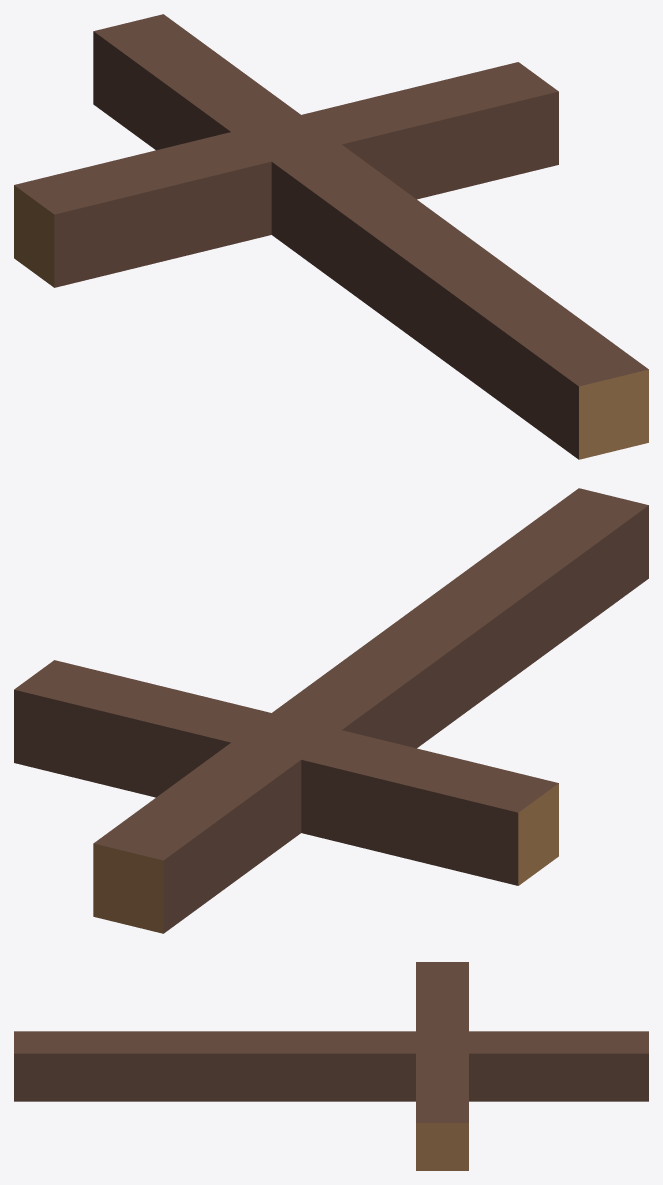
File: Cross.fbx
3 renders of one model, top to bottom at view 1: azimuth 30°, elevation 25°; view 2: azimuth 150°, elevation 25°; view 3: azimuth 270°, elevation 25°, orthographic. The views are drawn at different scales.
Visible parts, largest first — view 1: Cross_Base, BrokenCross_Part04, BrokenCross_Part01, BrokenCross_Part03, BrokenCross_Part02; view 2: Cross_Base, BrokenCross_Part04, BrokenCross_Part01, BrokenCross_Part03, BrokenCross_Part02; view 3: Cross_Base, BrokenCross_Part04, BrokenCross_Part02, BrokenCross_Part03, BrokenCross_Part01.
Part boxes in pixels (x1=…): Cross_Base: x1=30, y1=14, x2=648, y2=459; BrokenCross_Part04: x1=94, y1=14, x2=556, y2=316; BrokenCross_Part01: x1=14, y1=148, x2=188, y2=287; BrokenCross_Part03: x1=423, y1=273, x2=612, y2=459; BrokenCross_Part02: x1=462, y1=262, x2=648, y2=449; Cross_Base: x1=14, y1=488, x2=648, y2=933; BrokenCross_Part04: x1=15, y1=603, x2=491, y2=859; BrokenCross_Part01: x1=367, y1=750, x2=558, y2=885; BrokenCross_Part03: x1=464, y1=497, x2=648, y2=688; BrokenCross_Part02: x1=427, y1=488, x2=612, y2=608; Cross_Base: x1=14, y1=962, x2=648, y2=1170; BrokenCross_Part04: x1=215, y1=1009, x2=648, y2=1122; BrokenCross_Part02: x1=14, y1=1043, x2=213, y2=1101; BrokenCross_Part03: x1=14, y1=1031, x2=216, y2=1042; BrokenCross_Part01: x1=416, y1=962, x2=468, y2=1009.
Bounding box in the file's own units: 37.79 × 5.25 × 62.99.
